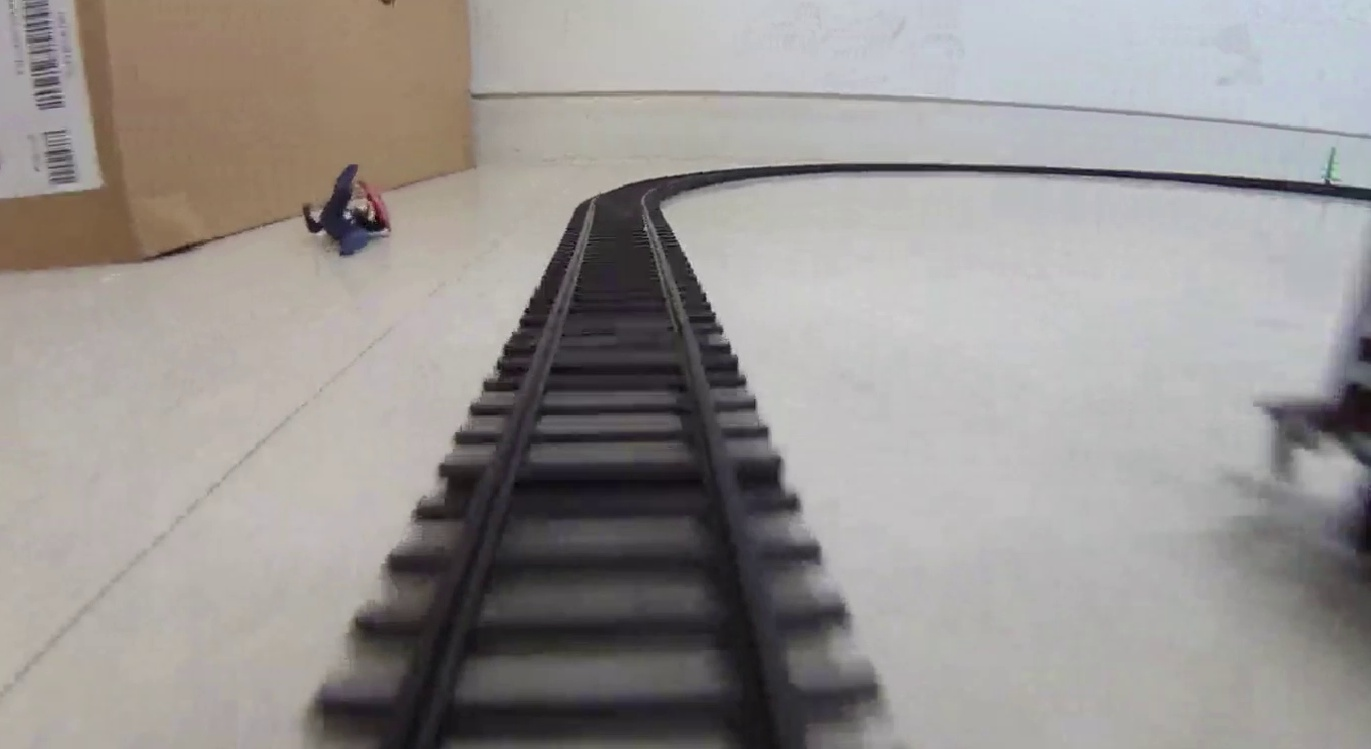people: (302, 164, 392, 260)
